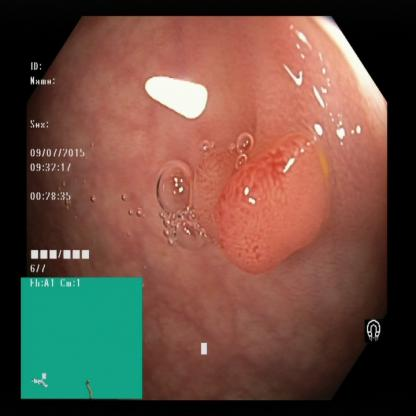Labels: (28, 57, 95, 277), (20, 280, 142, 398)
Polyps: (206, 138, 342, 266)
